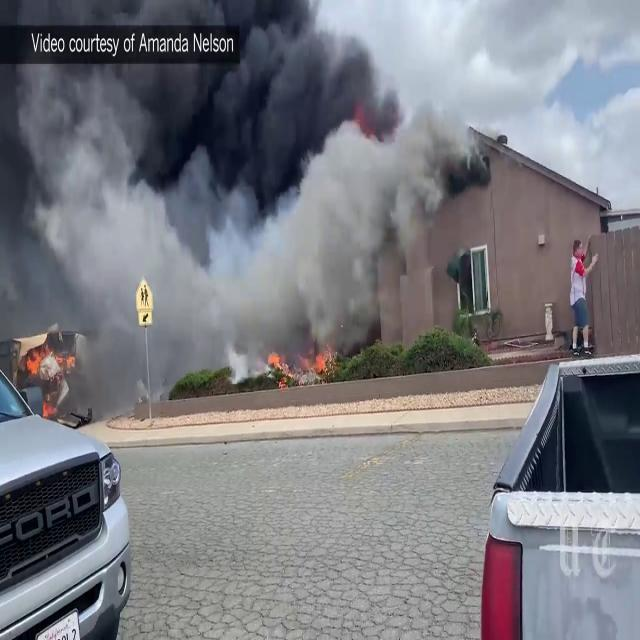Smoke: (2, 0, 474, 359)
